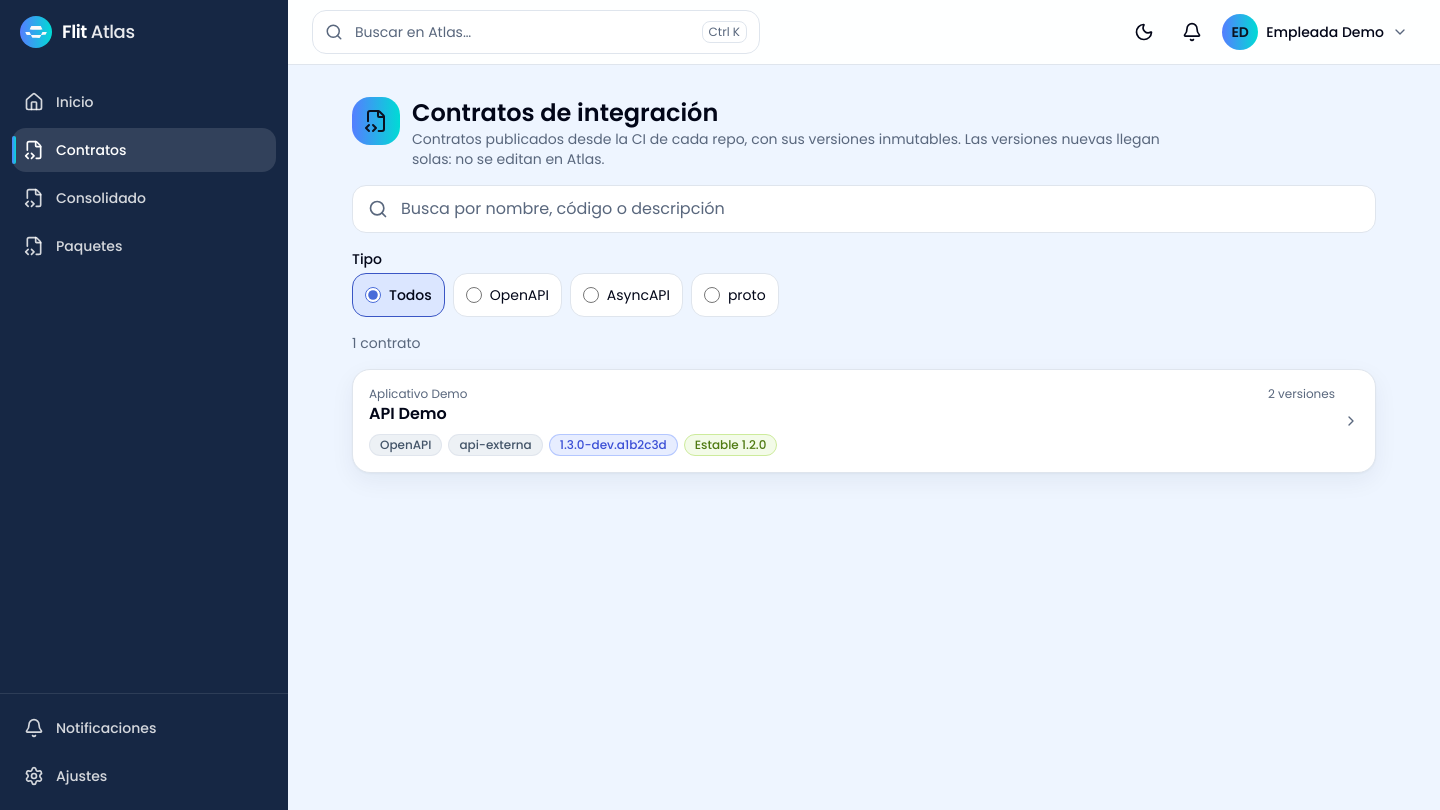
it: pantalla de contratos › lista los contratos con su última versión y, al abrir uno, pide y muestra sus versiones
Expected: the heading "Contratos de integración" is shown, [412,96,718,129]
Expected: the text "Estable 1.2.0" is shown, [684,434,777,456]
Click the text "API Demo" at [408, 414], box [369,402,447,425]
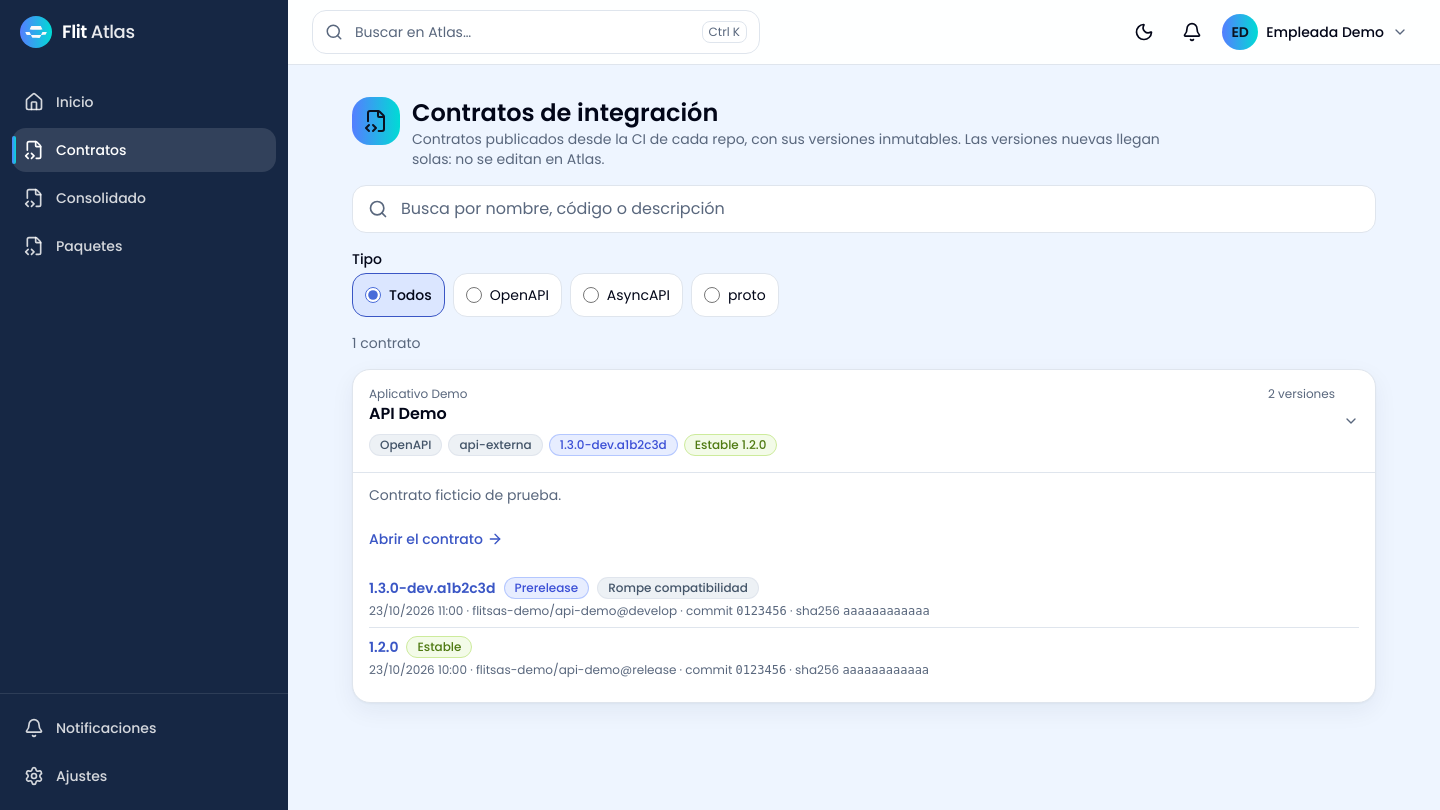
Now the text "Rompe compatibilidad" is shown, box [597,577,759,599]
Now the text "flitsas-demo/api-demo@" is shown 2 times, box [369,602,930,619]; [369,661,929,678]
